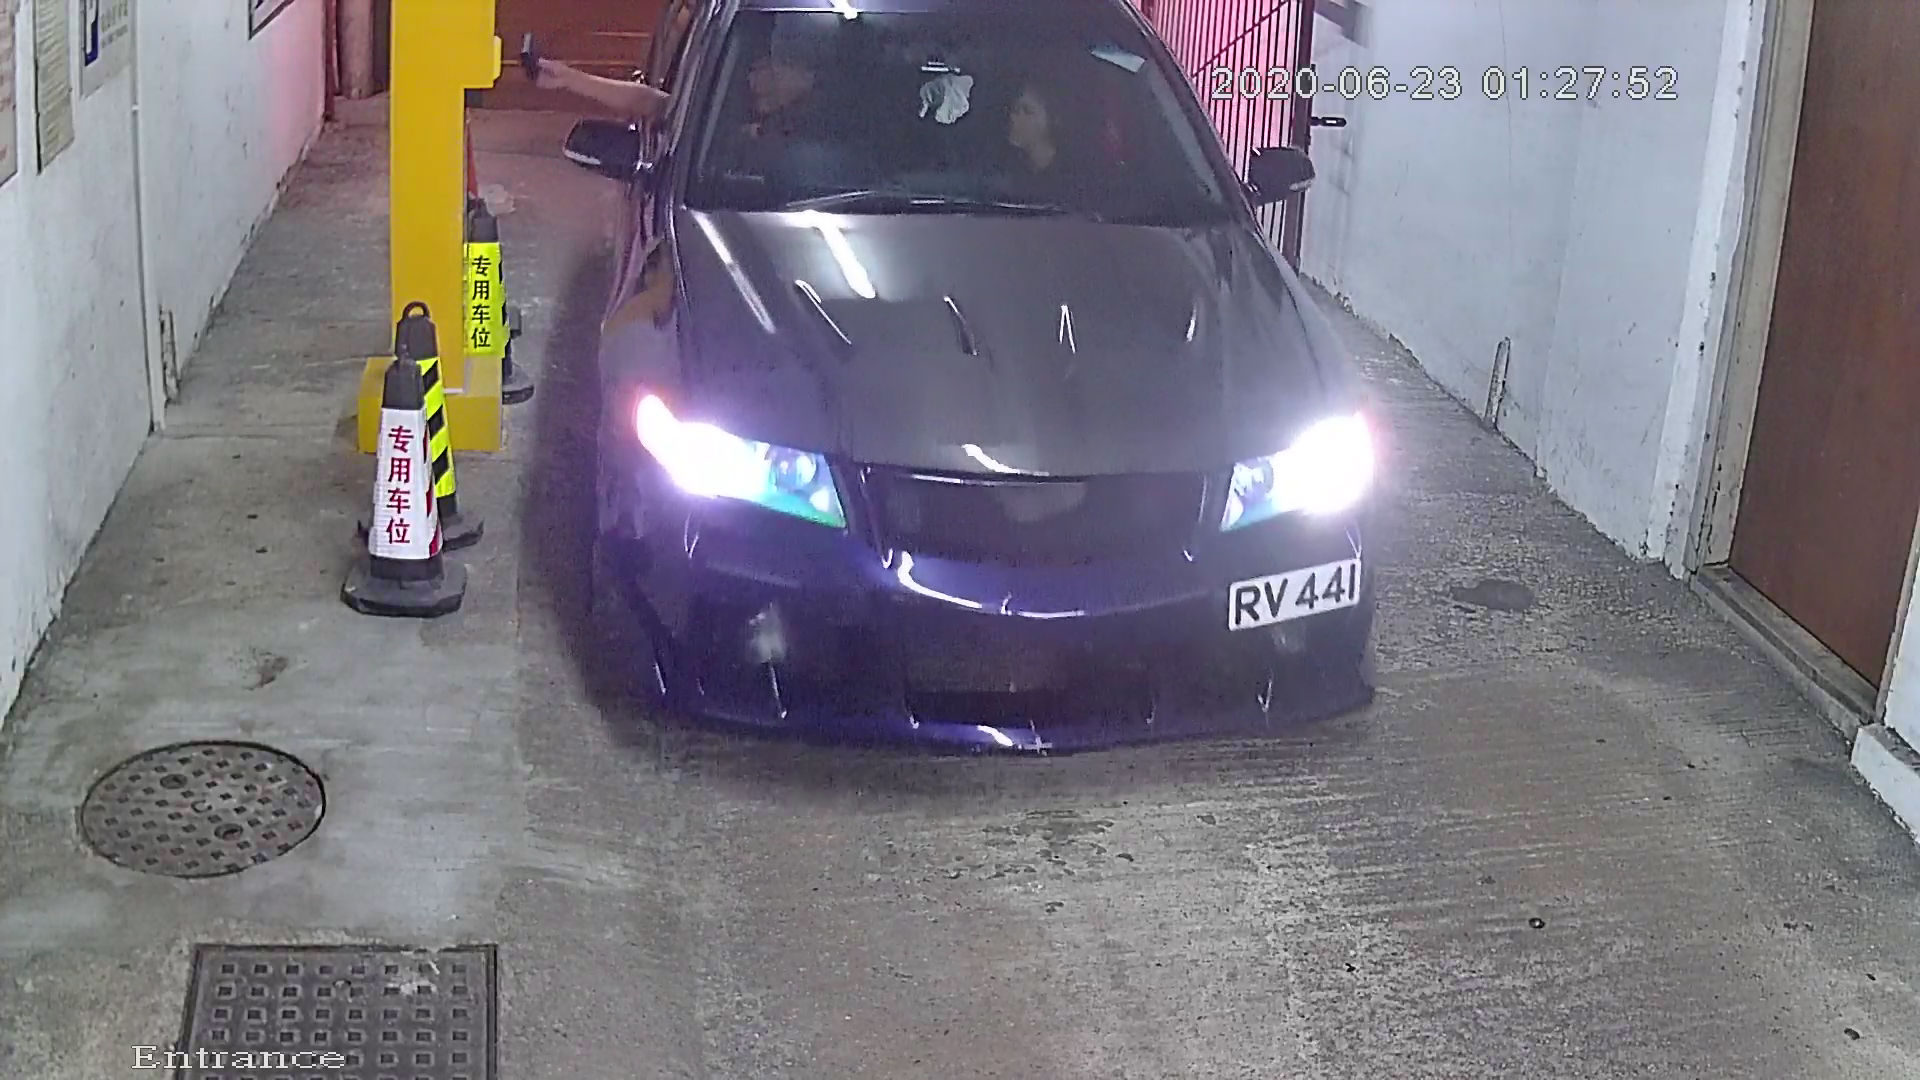privatecar: (513, 1, 1432, 775)
